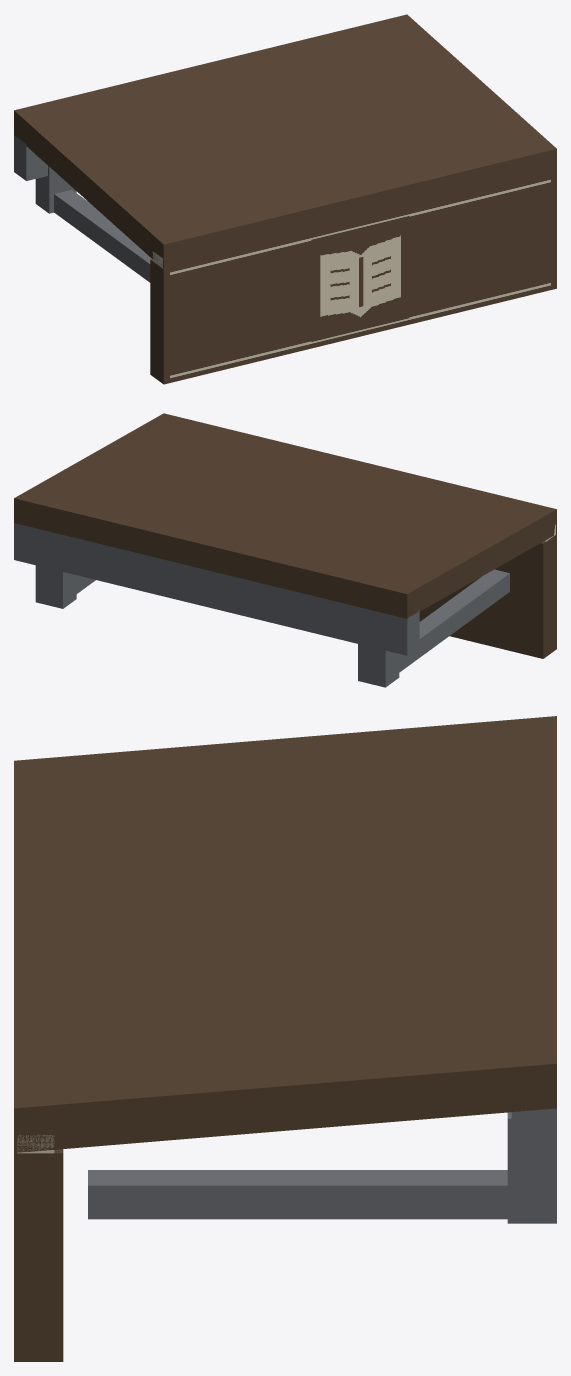
Rendered from building-business-bookshop-compact.glb.
3 views of the same model, one above another, from view 1: azimuth 30°, elevation 25°; view 2: azimuth 150°, elevation 25°; view 3: azimuth 270°, elevation 25° (orthographic). The views are drawn at different scales.
Visible parts, largest first — view 1: business-bookshop-compact; view 2: business-bookshop-compact; view 3: business-bookshop-compact.
Boxes of the visible parts, x1,y1,x2,y2 form: business-bookshop-compact: (14, 14, 556, 384); business-bookshop-compact: (14, 413, 556, 687); business-bookshop-compact: (14, 716, 556, 1361).
Size of the model in its own units: 1 by 0.4 by 0.66.
4 materials, 1 textured.
